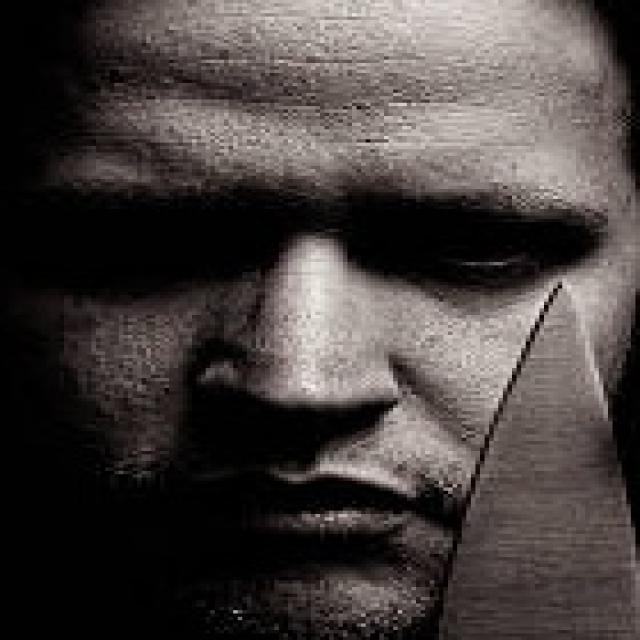Anxiety: (9, 0, 635, 637)
